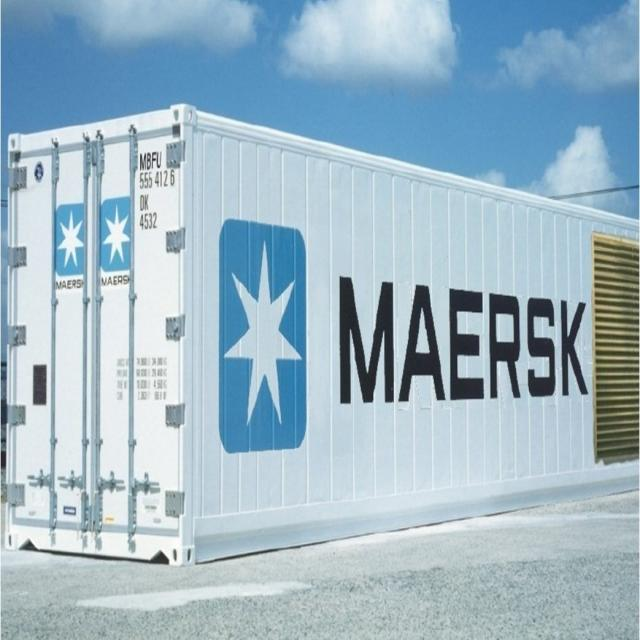container_number_h: (137, 148, 177, 235)
